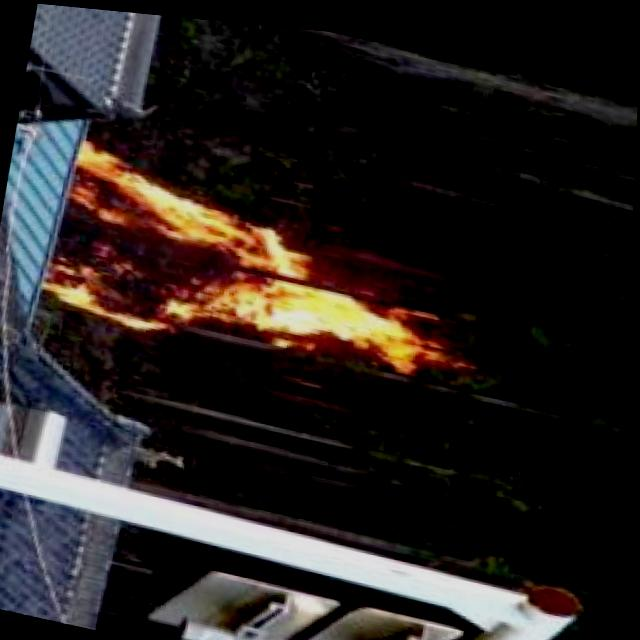Fire: (39, 138, 440, 380)
